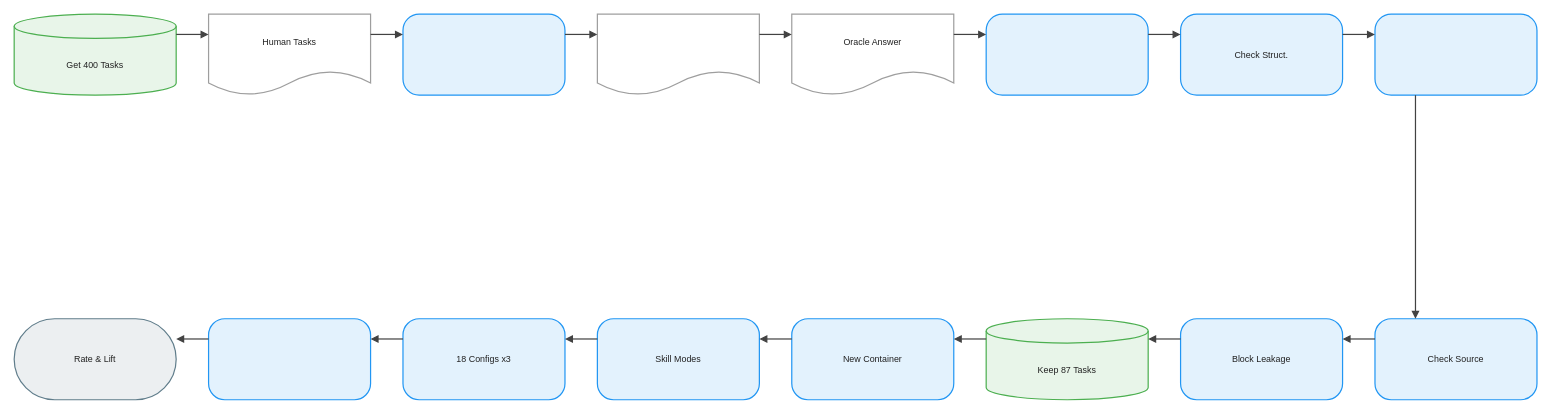
This 1552x415 diagram has some shape labels left out. Here are the shapes that lost their labels. From the top down, the centre of each, then its label:
the point at 483,54: Docker Env
the point at 678,54: Curate Skills
the point at 1066,54: Write Verifier
the point at 1455,54: Run Oracle
the point at 289,359: Test Pass/Fail
